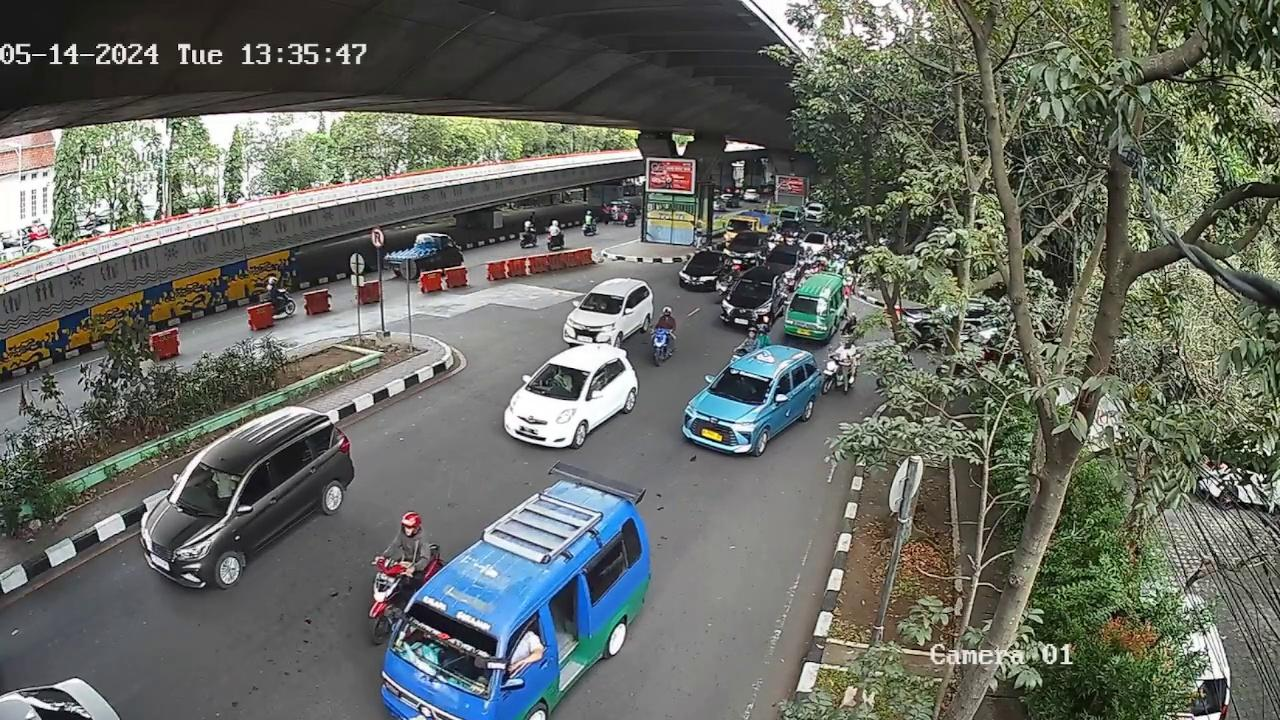pakai: (552, 370, 571, 391)
tidak-pakai: (202, 470, 233, 500)
windshield: (387, 606, 499, 686), (173, 459, 241, 517), (707, 366, 772, 406), (525, 364, 588, 402), (577, 288, 625, 316)
